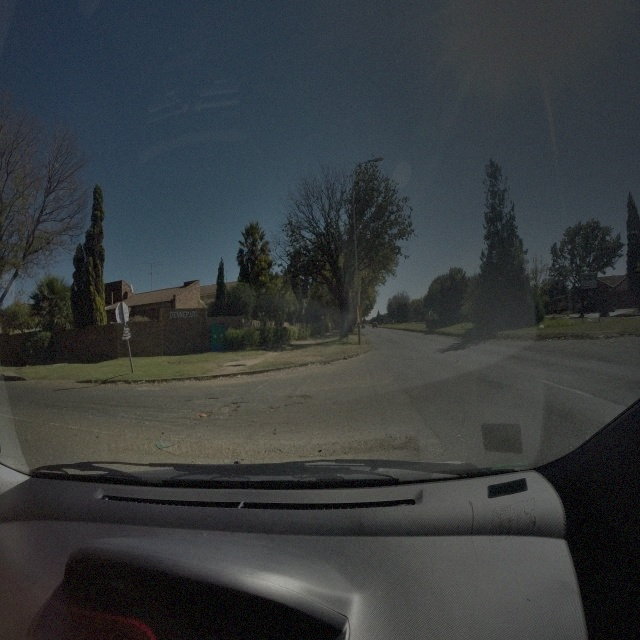pothole: (219, 398, 245, 414), (190, 396, 215, 404), (290, 394, 313, 400)
